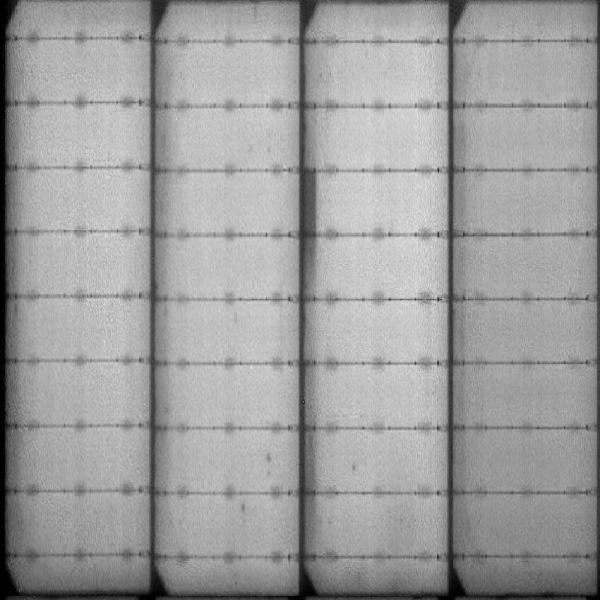black_border: (298, 161, 320, 301)
